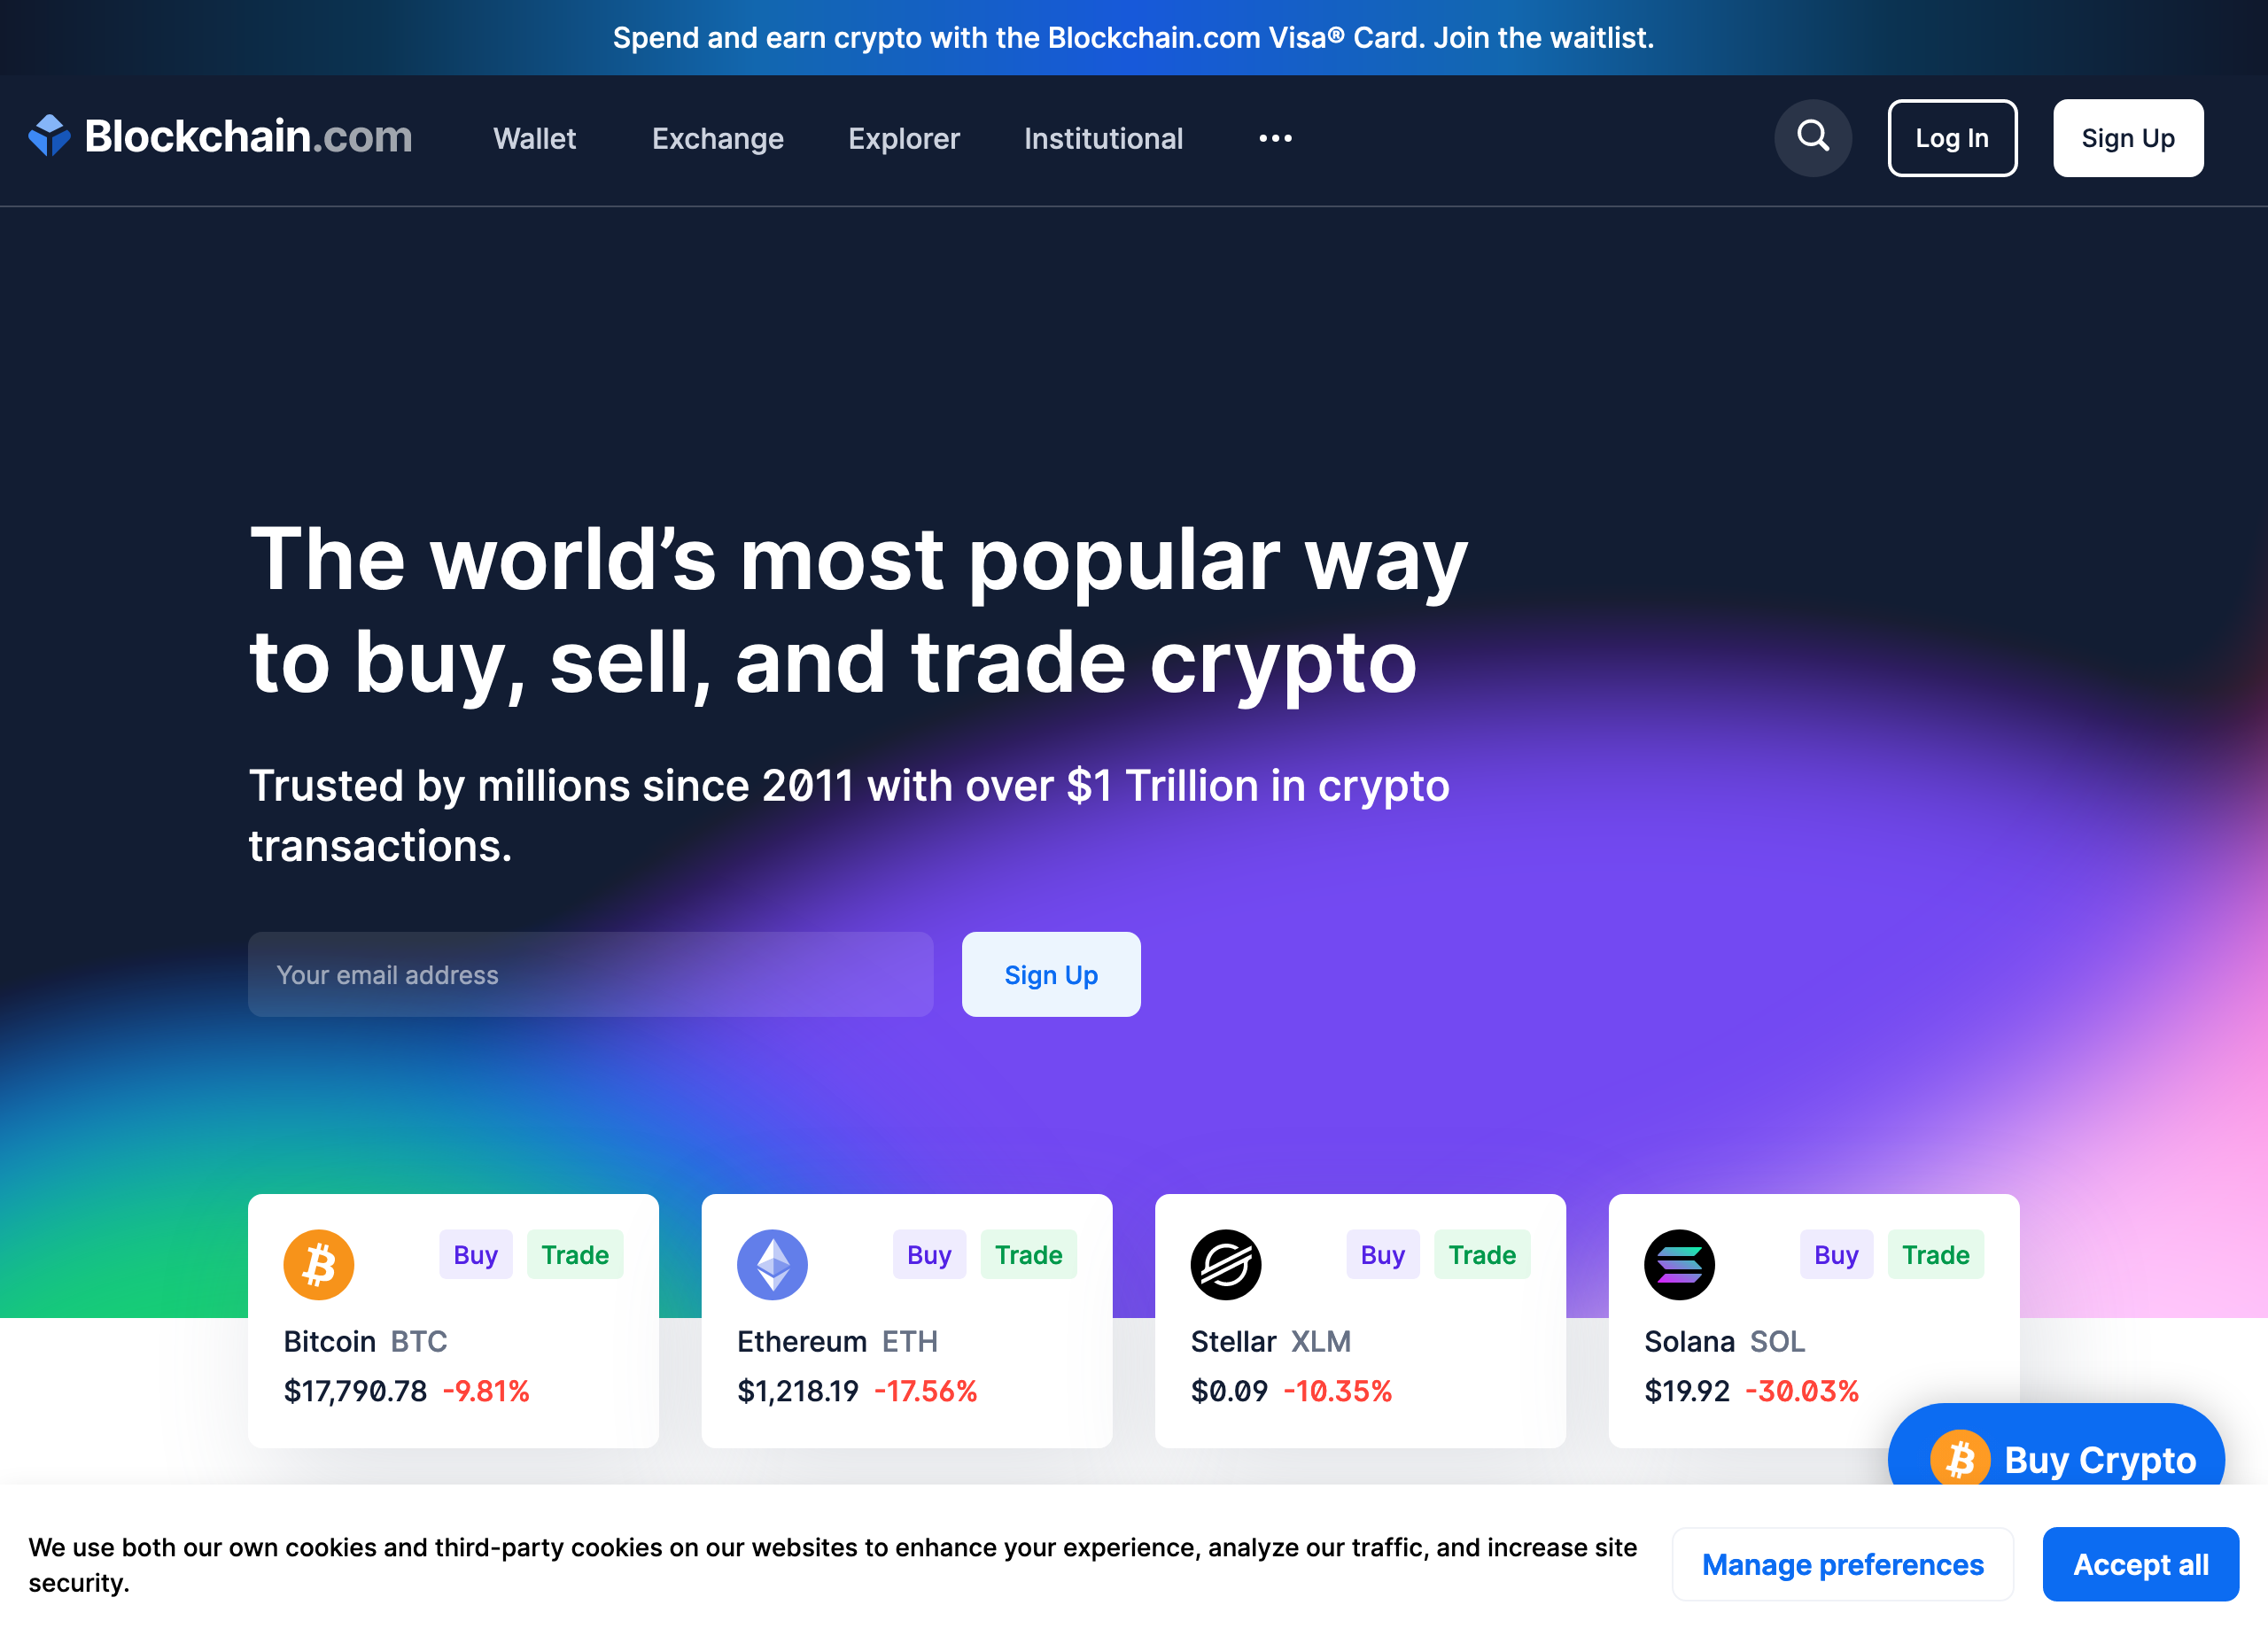Login: (1877, 90, 2030, 185)
